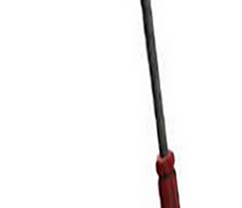screwdriver: (129, 1, 202, 208)
